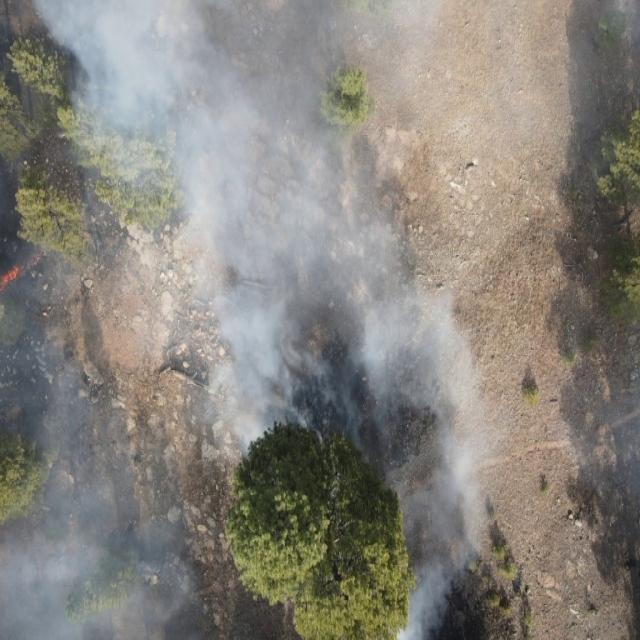fire: (0, 252, 46, 292)
smoke: (0, 0, 228, 640), (228, 0, 389, 426), (389, 0, 640, 179), (390, 217, 451, 640), (557, 365, 640, 510), (452, 315, 488, 580), (488, 395, 508, 516), (350, 427, 390, 463), (232, 427, 251, 467), (251, 427, 275, 447), (380, 462, 390, 493), (312, 427, 326, 448)
